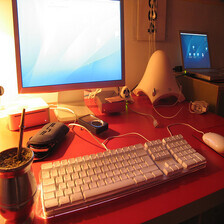laptop: (167, 31, 224, 88)
